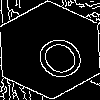O: (25, 25, 90, 85)
